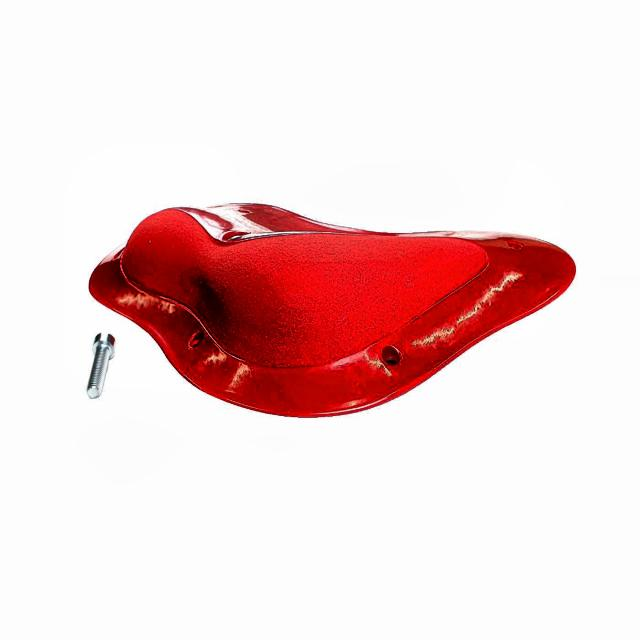Hold: (88, 200, 580, 420)
